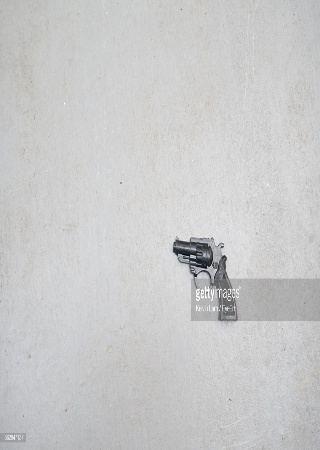handgun: (168, 234, 244, 323)
